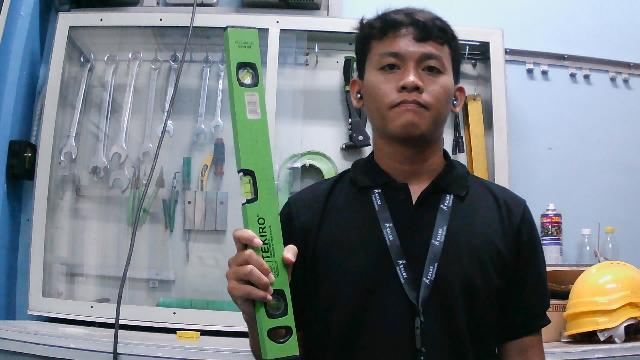water_pass: (221, 23, 305, 360)
